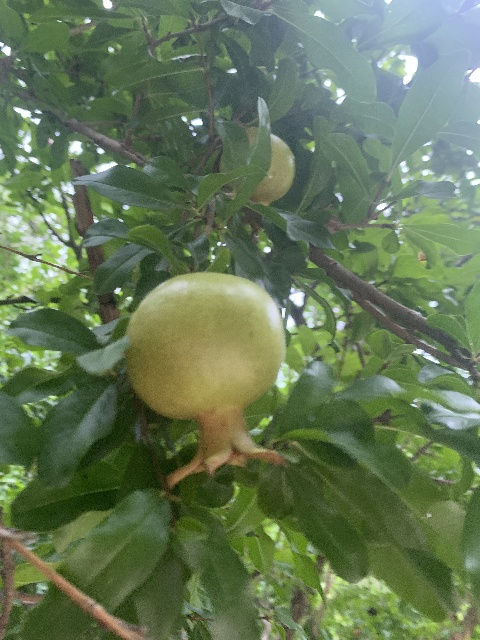mid-growth: (124, 272, 287, 485), (225, 126, 295, 207)
